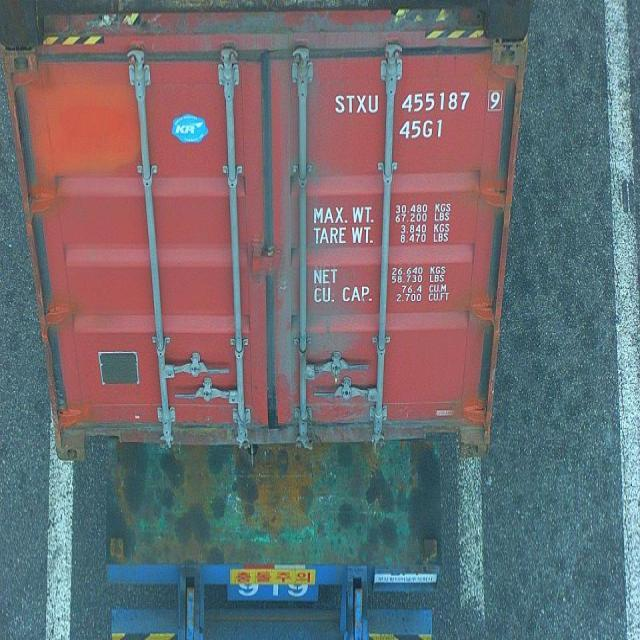ISO: (399, 118, 446, 140)
container_number: (338, 89, 504, 112)
